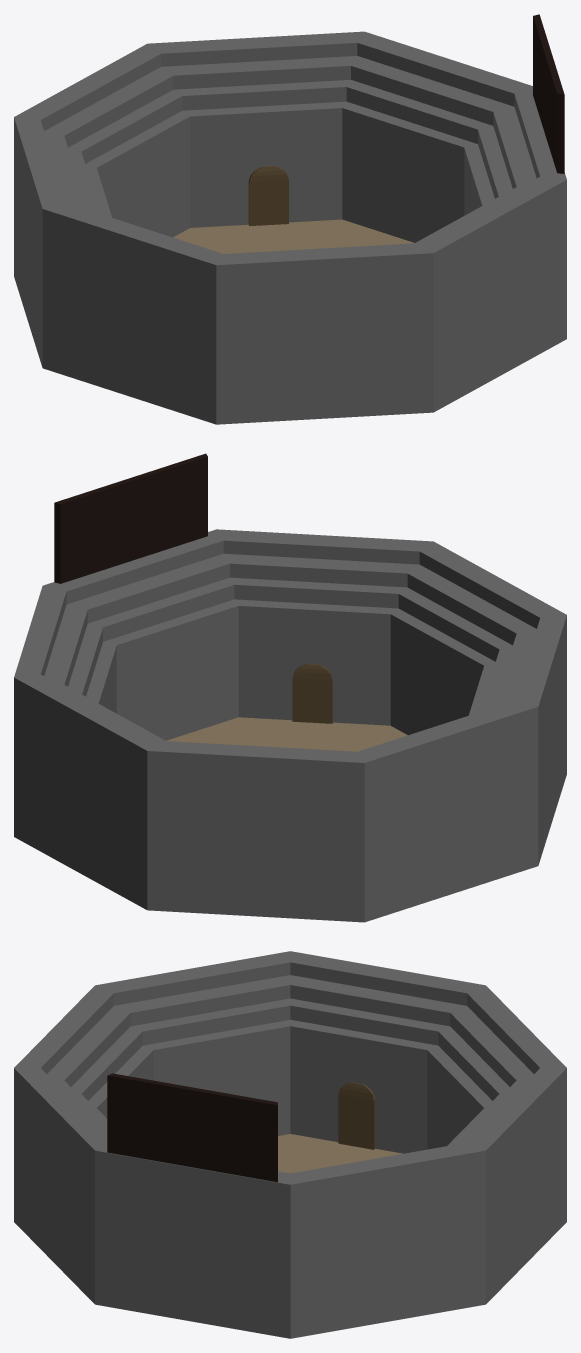
File: Arena (1).fbx
The picture shows the model from 3 angles, top to bottom: view 1: azimuth 30°, elevation 25°; view 2: azimuth 150°, elevation 25°; view 3: azimuth 270°, elevation 25°; orthographic projection. The views are drawn at different scales.
Visible parts, largest first — view 1: arena, Door; view 2: arena, Door.002; view 3: arena, Door.001.
Boxes of the visible parts, box(x1,y1,x2,y2) form: arena: box(14, 14, 566, 424); Door: box(248, 166, 288, 226); arena: box(14, 453, 566, 922); Door.002: box(292, 663, 332, 723); arena: box(14, 951, 566, 1338); Door.001: box(338, 1082, 375, 1149).
Bounding box in the file's own units: 2846 × 1411 × 2846.
